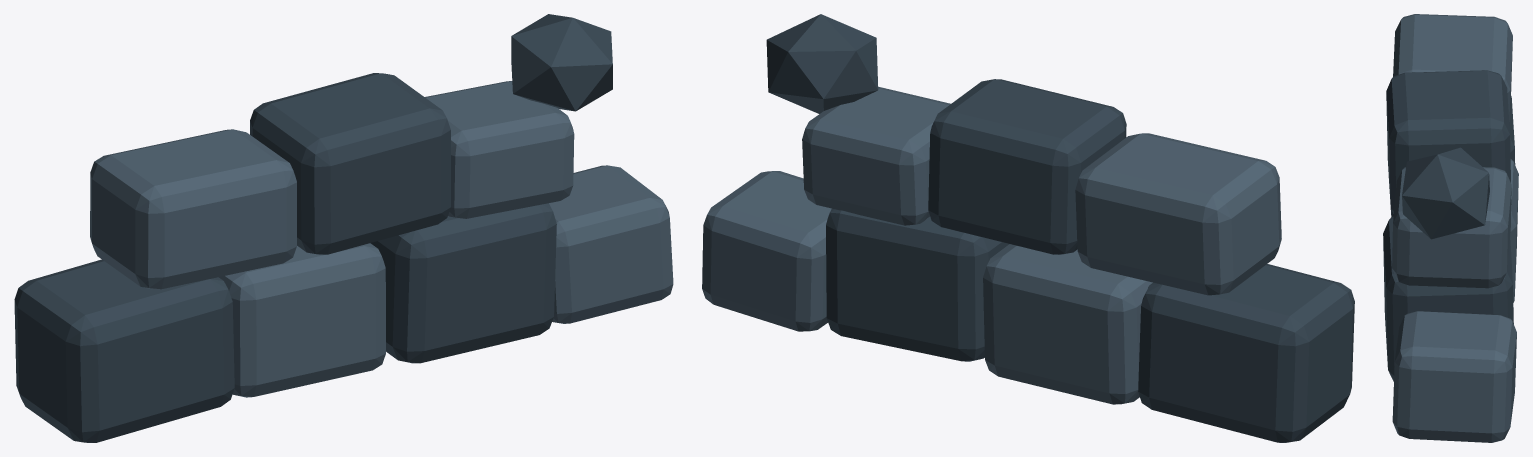
Rendered from ENV_Wall_A.fbx.
3 views of the same model, side by side, from view 1: azimuth 30°, elevation 25°; view 2: azimuth 150°, elevation 25°; view 3: azimuth 270°, elevation 25° (orthographic). The views are drawn at different scales.
Parts seen in each view (by area): view 1: ENV_Wall_A; view 2: ENV_Wall_A; view 3: ENV_Wall_A.
Part boxes in pixels (box(x1,y1,x2,y2)): ENV_Wall_A: box(14, 14, 673, 442); ENV_Wall_A: box(702, 14, 1354, 442); ENV_Wall_A: box(1383, 14, 1518, 442).
Bounding box in the file's own units: 2.19 × 1 × 0.4714.
